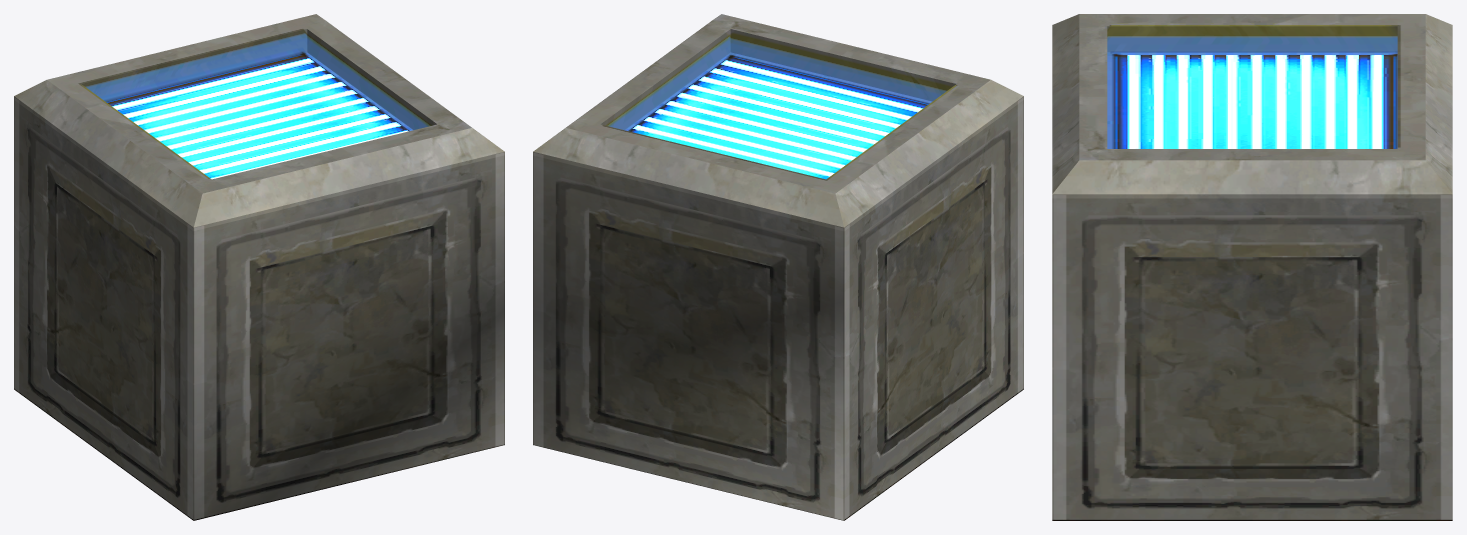
Rendered from bel_arch_rakata_prop_light_free_01.glb.
The picture shows the model from 3 angles, left to right: view 1: azimuth 30°, elevation 25°; view 2: azimuth 150°, elevation 25°; view 3: azimuth 270°, elevation 25°; orthographic projection. The views are drawn at different scales.
Parts seen in each view (by area): view 1: bel_arch_rakata_prop_light_free_01; view 2: bel_arch_rakata_prop_light_free_01; view 3: bel_arch_rakata_prop_light_free_01.
Part boxes in pixels (x1,y1,x2,y2): bel_arch_rakata_prop_light_free_01: [14, 14, 504, 520]; bel_arch_rakata_prop_light_free_01: [533, 14, 1023, 520]; bel_arch_rakata_prop_light_free_01: [1052, 14, 1452, 520].
Bounding box in the file's own units: 0.2175 × 0.2093 × 0.2175.
1 material, 1 textured.
